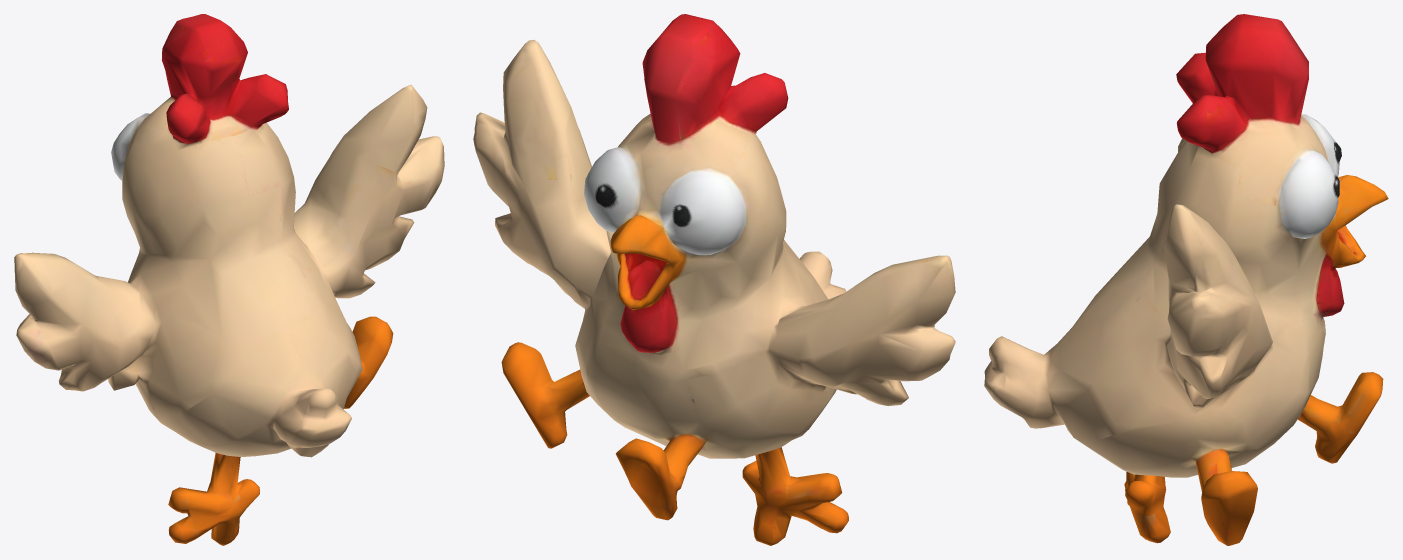
The model's file is prop-chicken.glb.
The picture shows the model from 3 angles, left to right: view 1: azimuth 30°, elevation 25°; view 2: azimuth 150°, elevation 25°; view 3: azimuth 270°, elevation 25°; orthographic projection. The views are drawn at different scales.
Visible parts, largest first — view 1: model; view 2: model; view 3: model.
Part boxes in pixels (x1,y1,x2,y2): model: (14,14,444,545); model: (473,14,955,545); model: (984,14,1388,545).
Bounding box in the file's own units: 0.9115 × 1 × 0.6851.
1 material, 1 textured.
